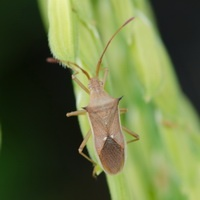insect: (47, 17, 138, 175)
